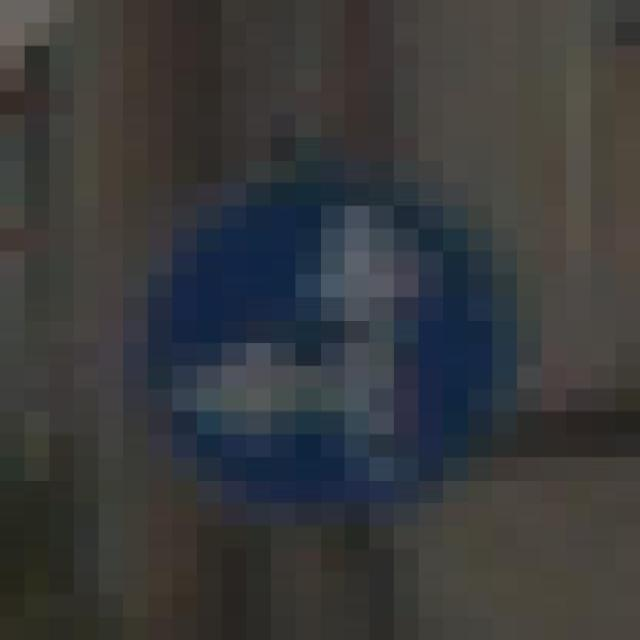Go straight or turn left: (98, 114, 591, 549)
